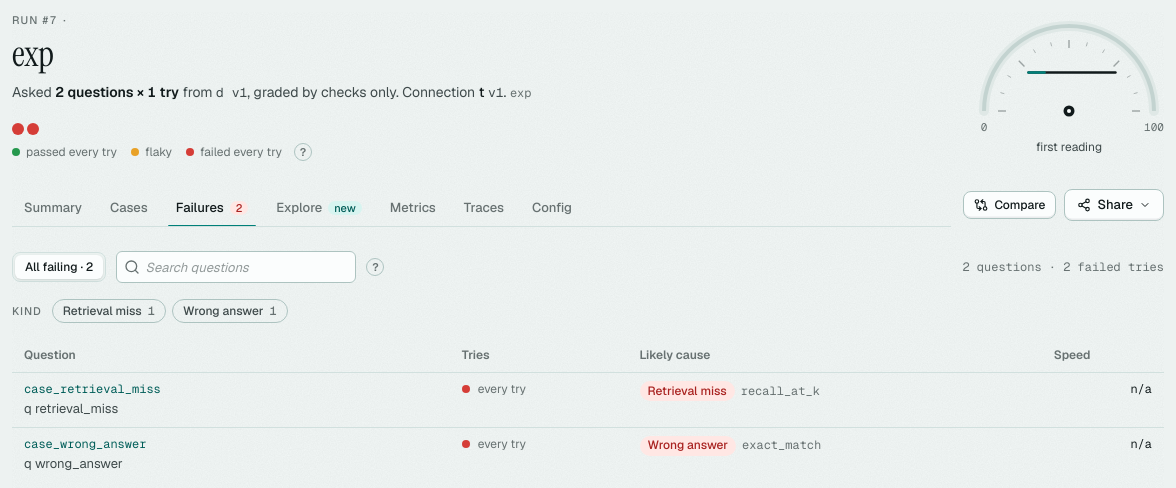
Scenario: failure filtering › lists failure types and filters the trials by the clicked type
This screenshot has width=1176, height=488.
Expected: the link "case_retrieval_miss" is shown, [24,381,161,398]
Expected: the link "case_wrong_answer" is shown, [24,436,146,452]
Click the button "Retrieval miss 1". click: (109, 311)
box: [52,299,166,323]
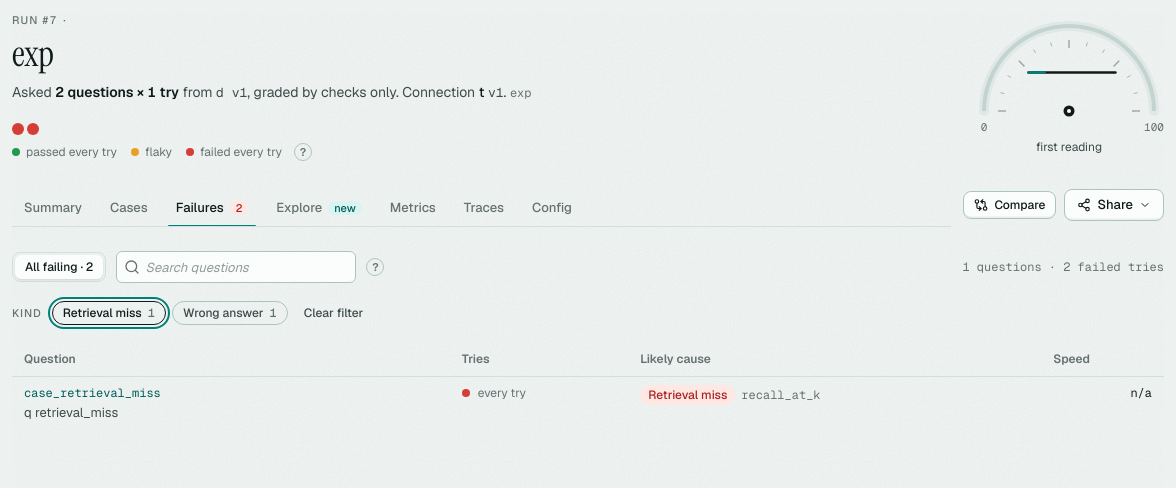
Expected: the link "case_retrieval_miss" is shown, [24,385,161,402]
Expected: the button "Clear filter" is shown, [294,299,373,327]
Expected: the link "case_wrong_answer" is gone
